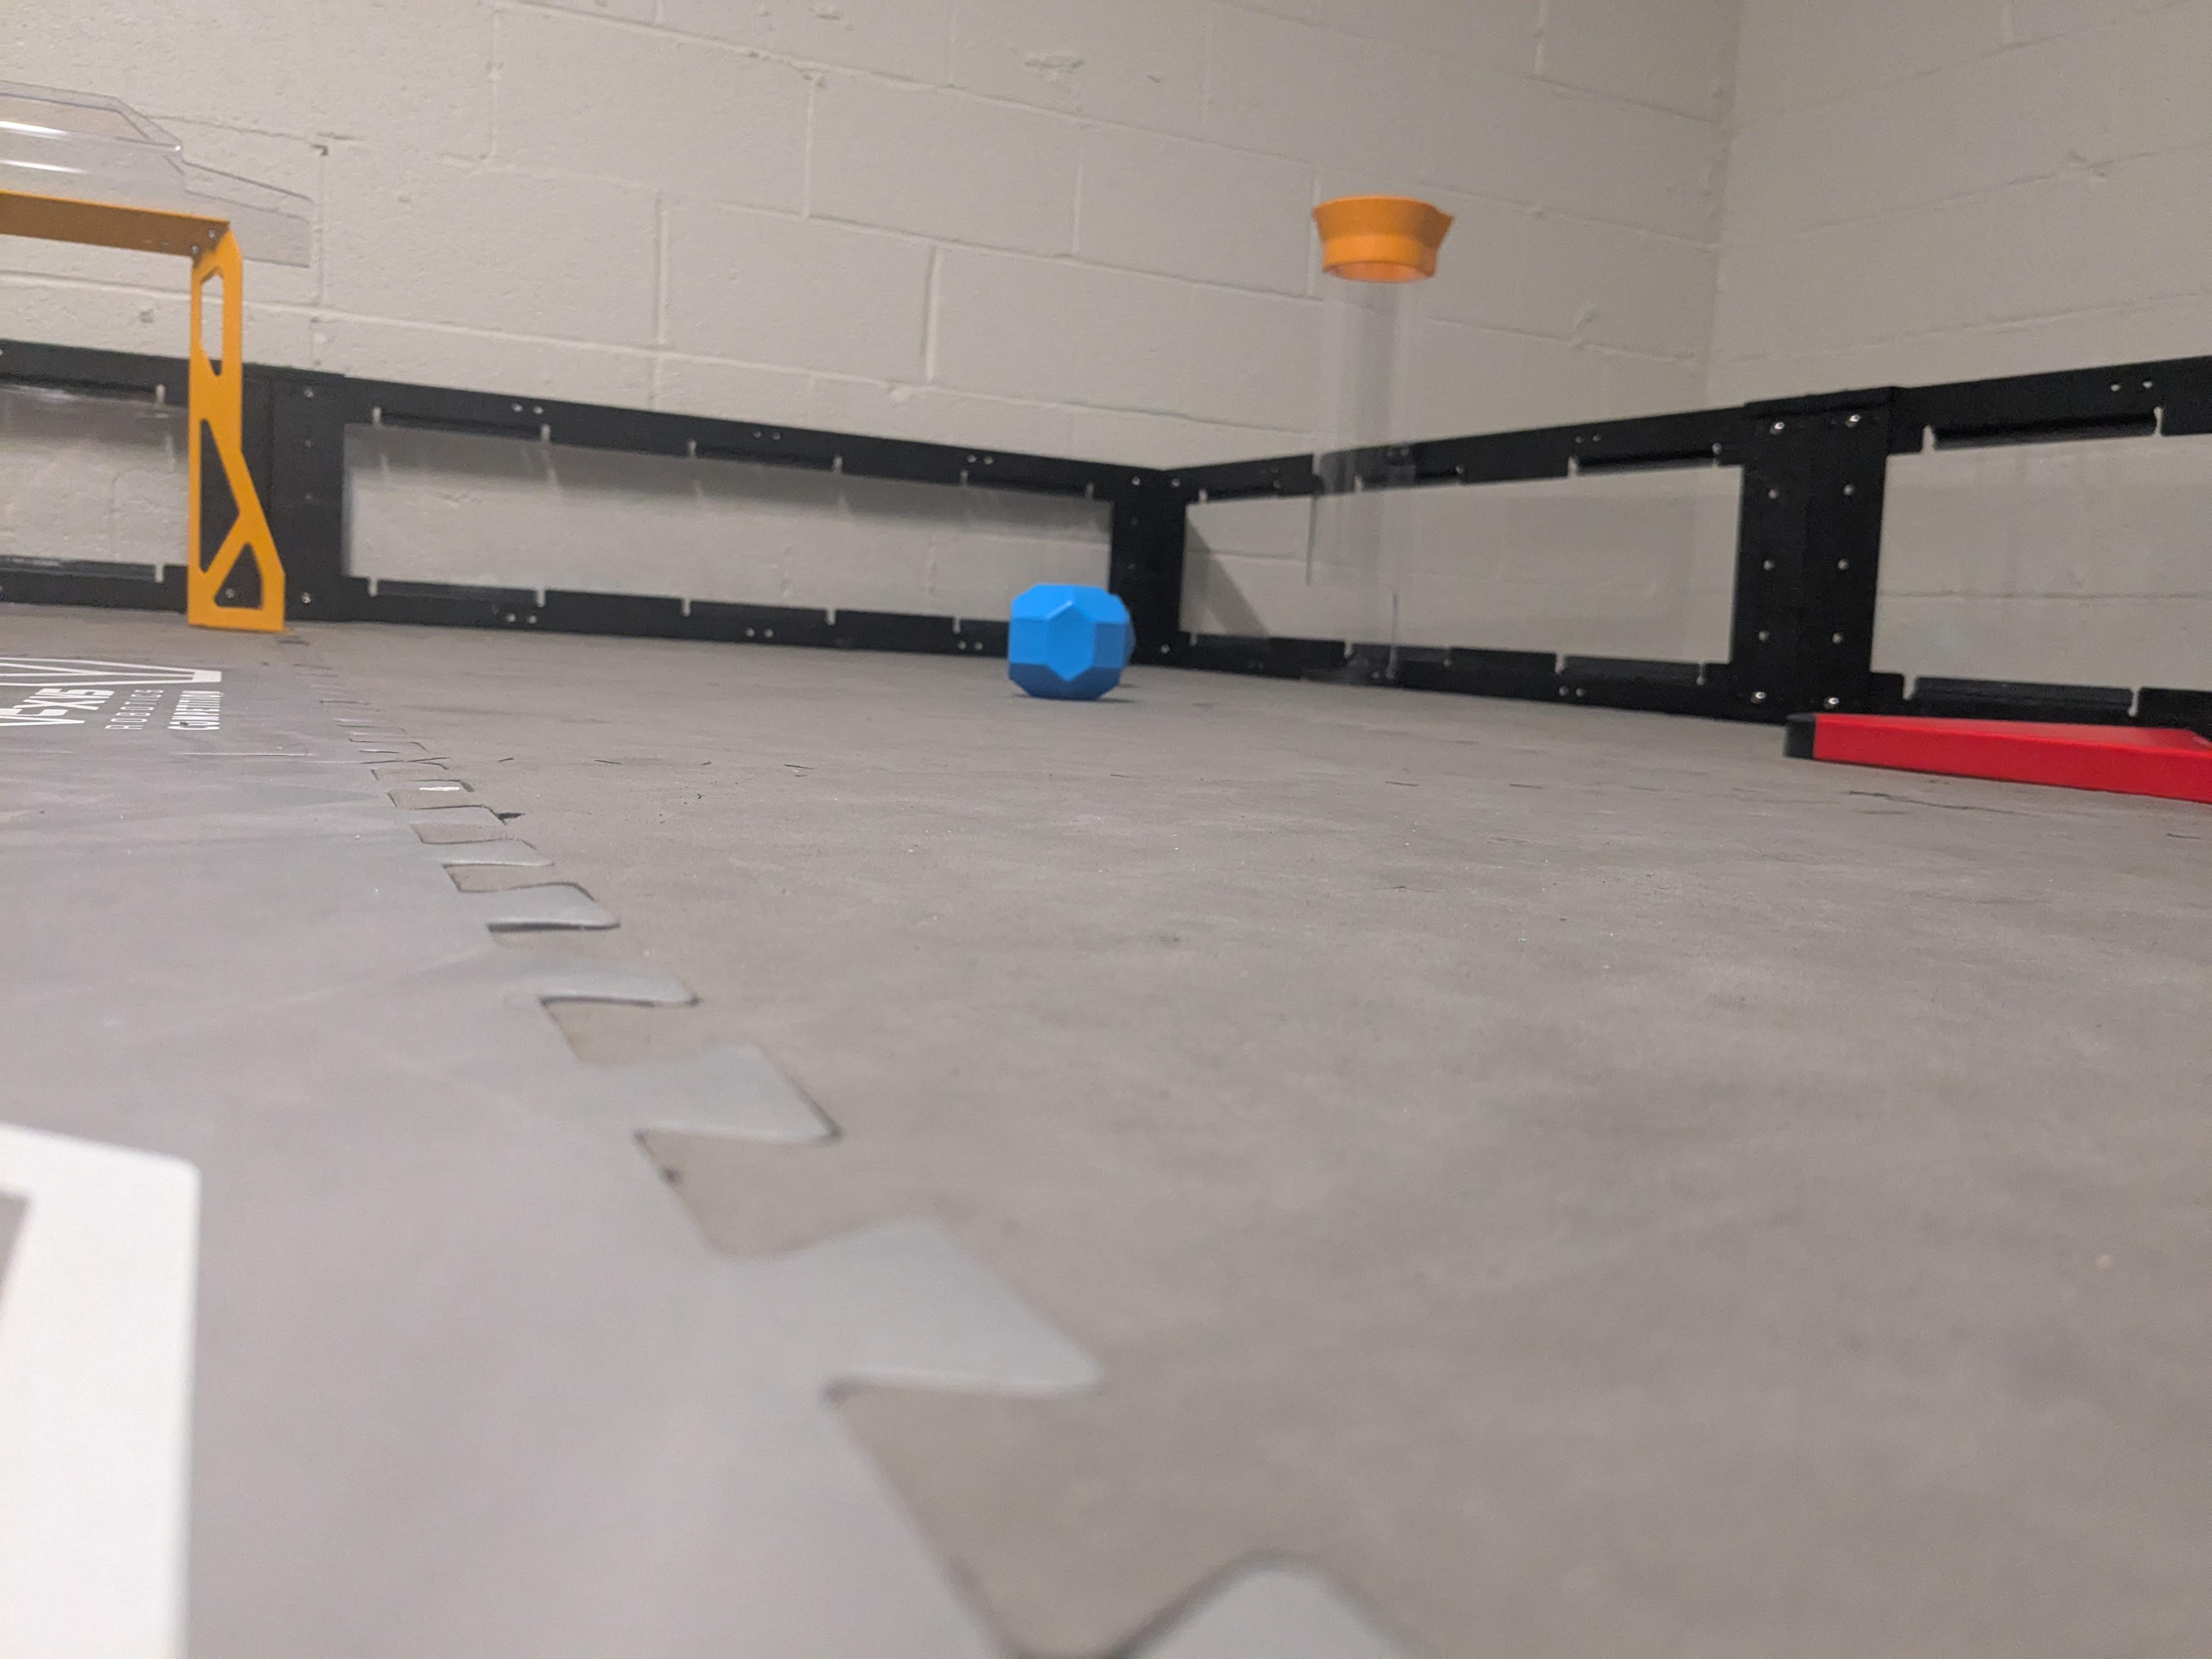Vex-Pieces-BLUE: (1005, 586, 1130, 699)
